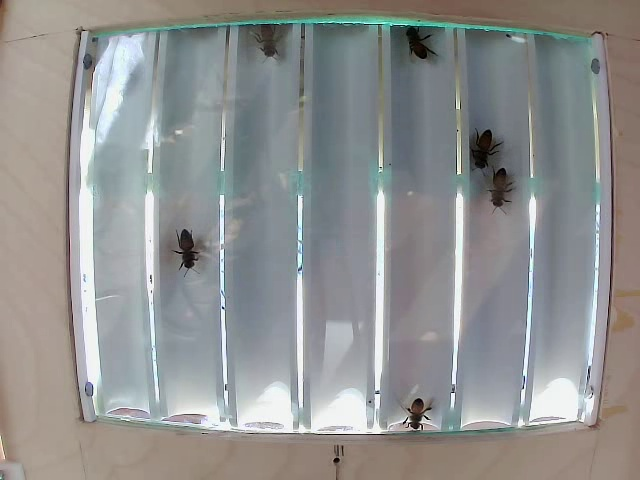bee: (251, 19, 297, 65), (165, 227, 218, 263), (463, 127, 497, 175), (400, 36, 442, 74), (482, 173, 518, 217), (403, 391, 436, 431)
